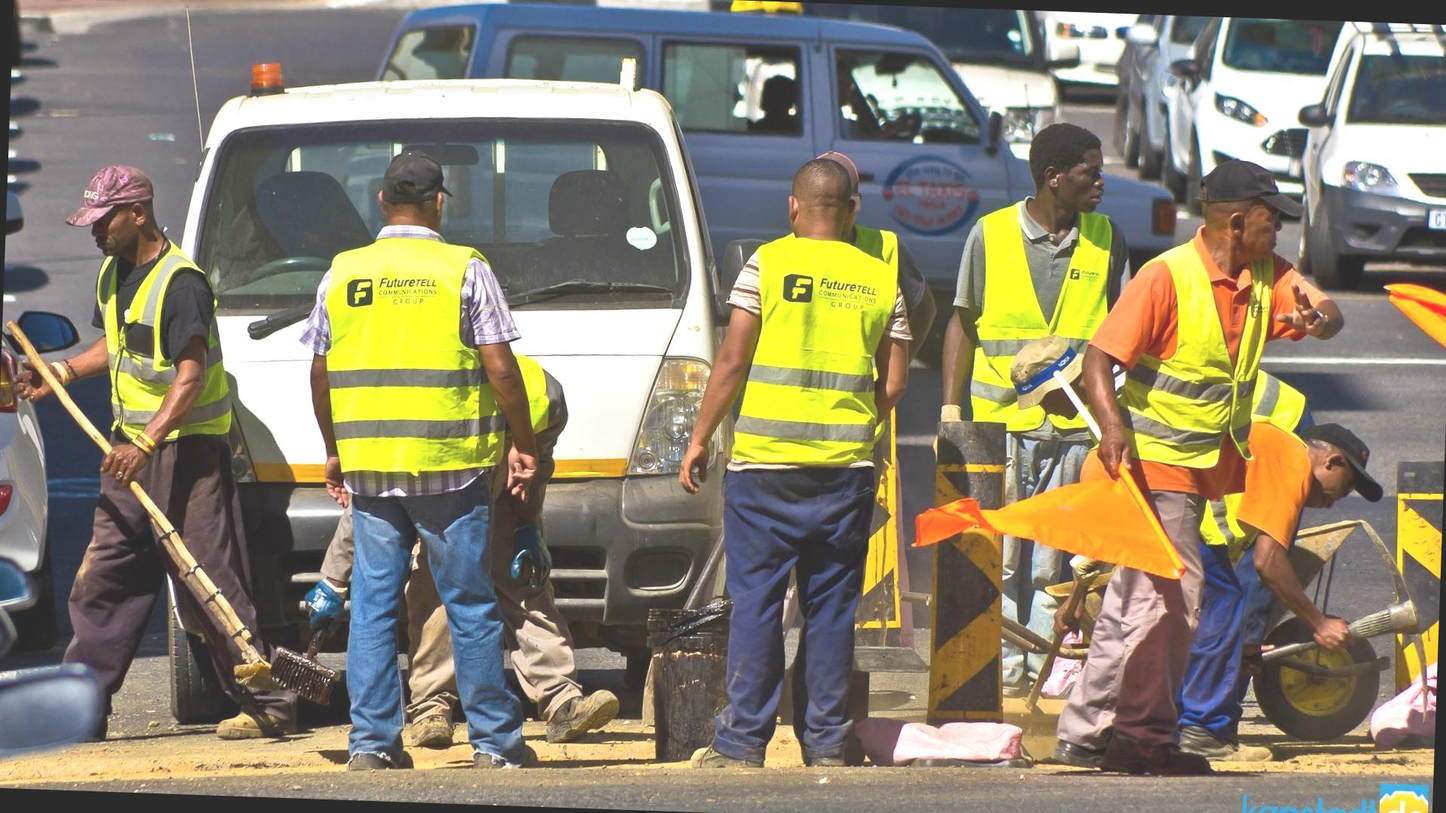person: (292, 153, 541, 770), (1098, 139, 1321, 813), (686, 157, 900, 769), (31, 164, 261, 723), (944, 113, 1152, 463)
